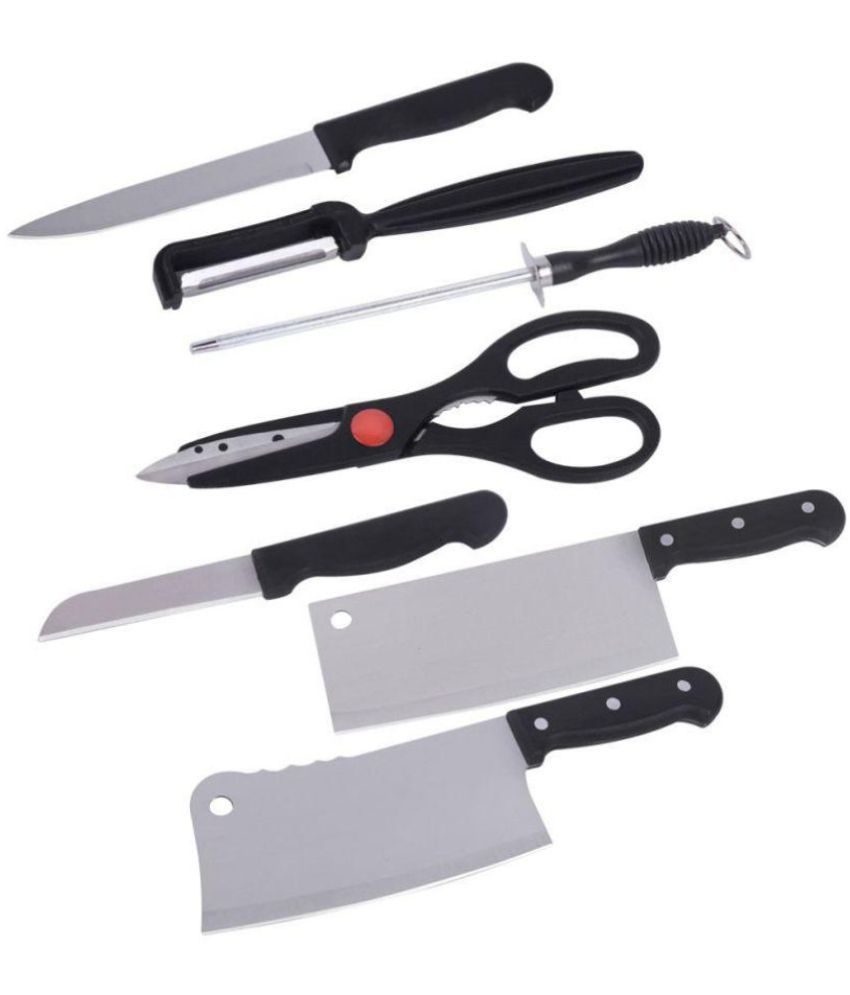knife: (10, 60, 551, 239), (37, 489, 507, 634)
